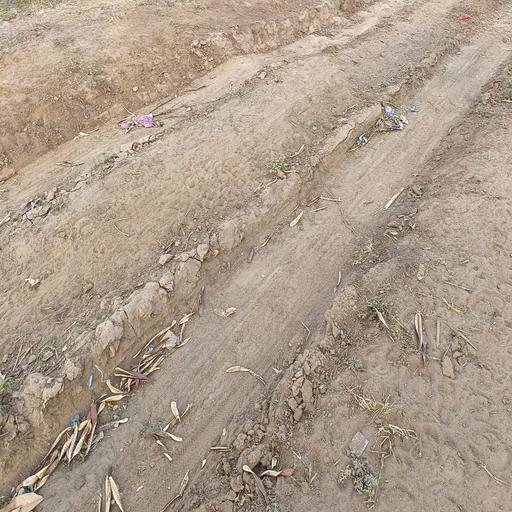vehicle_track: (26, 0, 512, 512), (0, 0, 423, 228)
